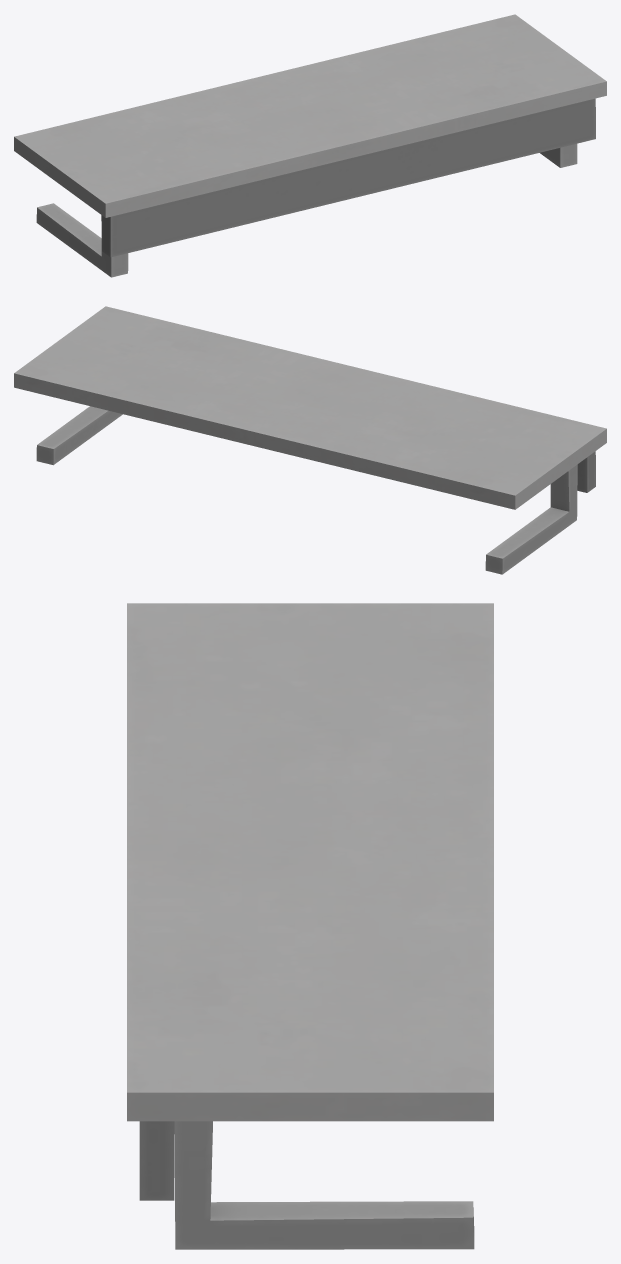
The model's file is Pfb_Table__13.fbx.
3 views of the same model, one above another, from view 1: azimuth 30°, elevation 25°; view 2: azimuth 150°, elevation 25°; view 3: azimuth 270°, elevation 25° (orthographic). The views are drawn at different scales.
Parts seen in each view (by area): view 1: Mat_Table_01_White; view 2: Mat_Table_01_White; view 3: Mat_Table_01_White.
Part boxes in pixels (<box>): Mat_Table_01_White: <box>14,14,606,277</box>; Mat_Table_01_White: <box>14,306,606,574</box>; Mat_Table_01_White: <box>127,603,493,1249</box>.
Bounding box in the file's own units: 3.91 × 0.649 × 1.24.
Materials: 1 (1 with a texture image).
